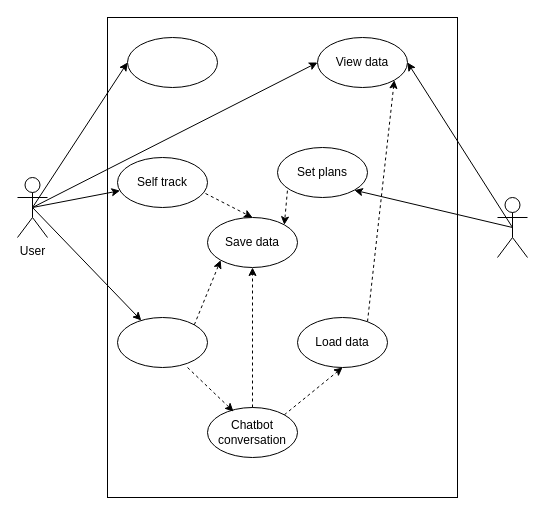
Image size: 555x515. Some labels were removed from this diagram. The centre of each missing label's shape, as x and y in pixels:
Consult therapist: point 162,342
Login: point 172,62
Therapist: point 512,227
